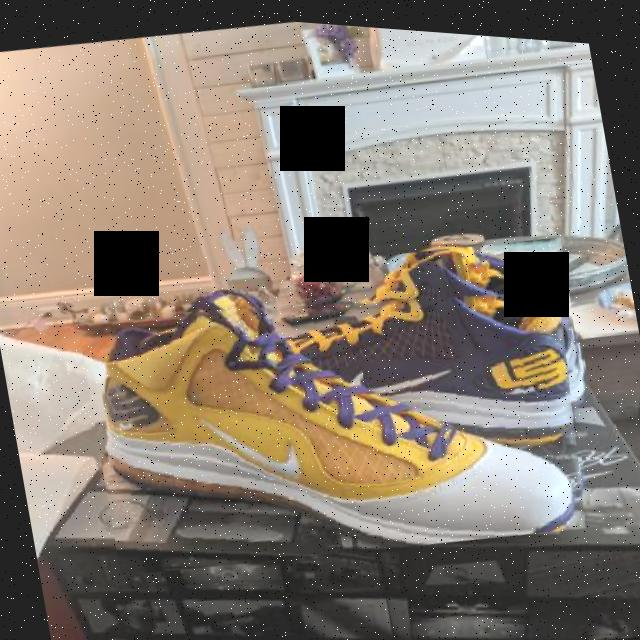shoe: (76, 232, 599, 601), (292, 213, 587, 423)
